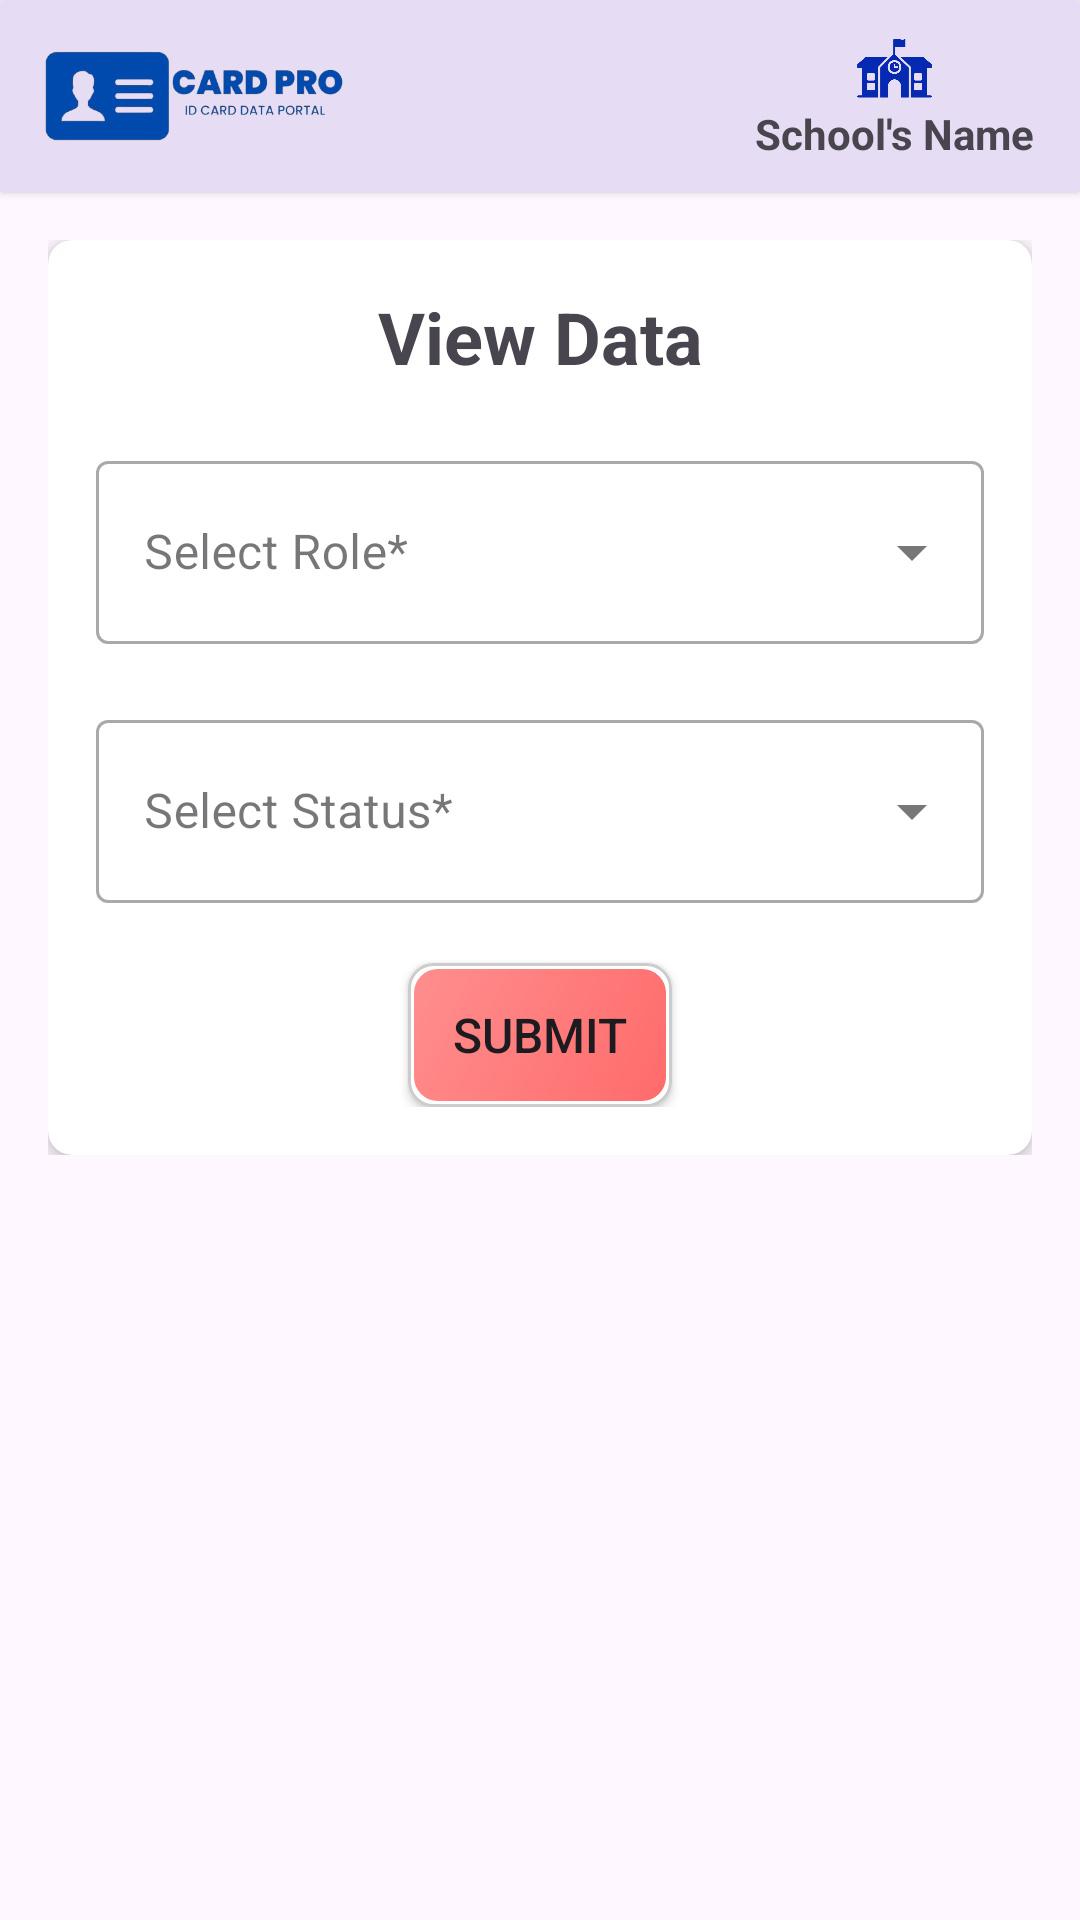

Where to tap for icons on this 1080px x 1920px app screen, as point (x, y):
school home: point (894, 68)
